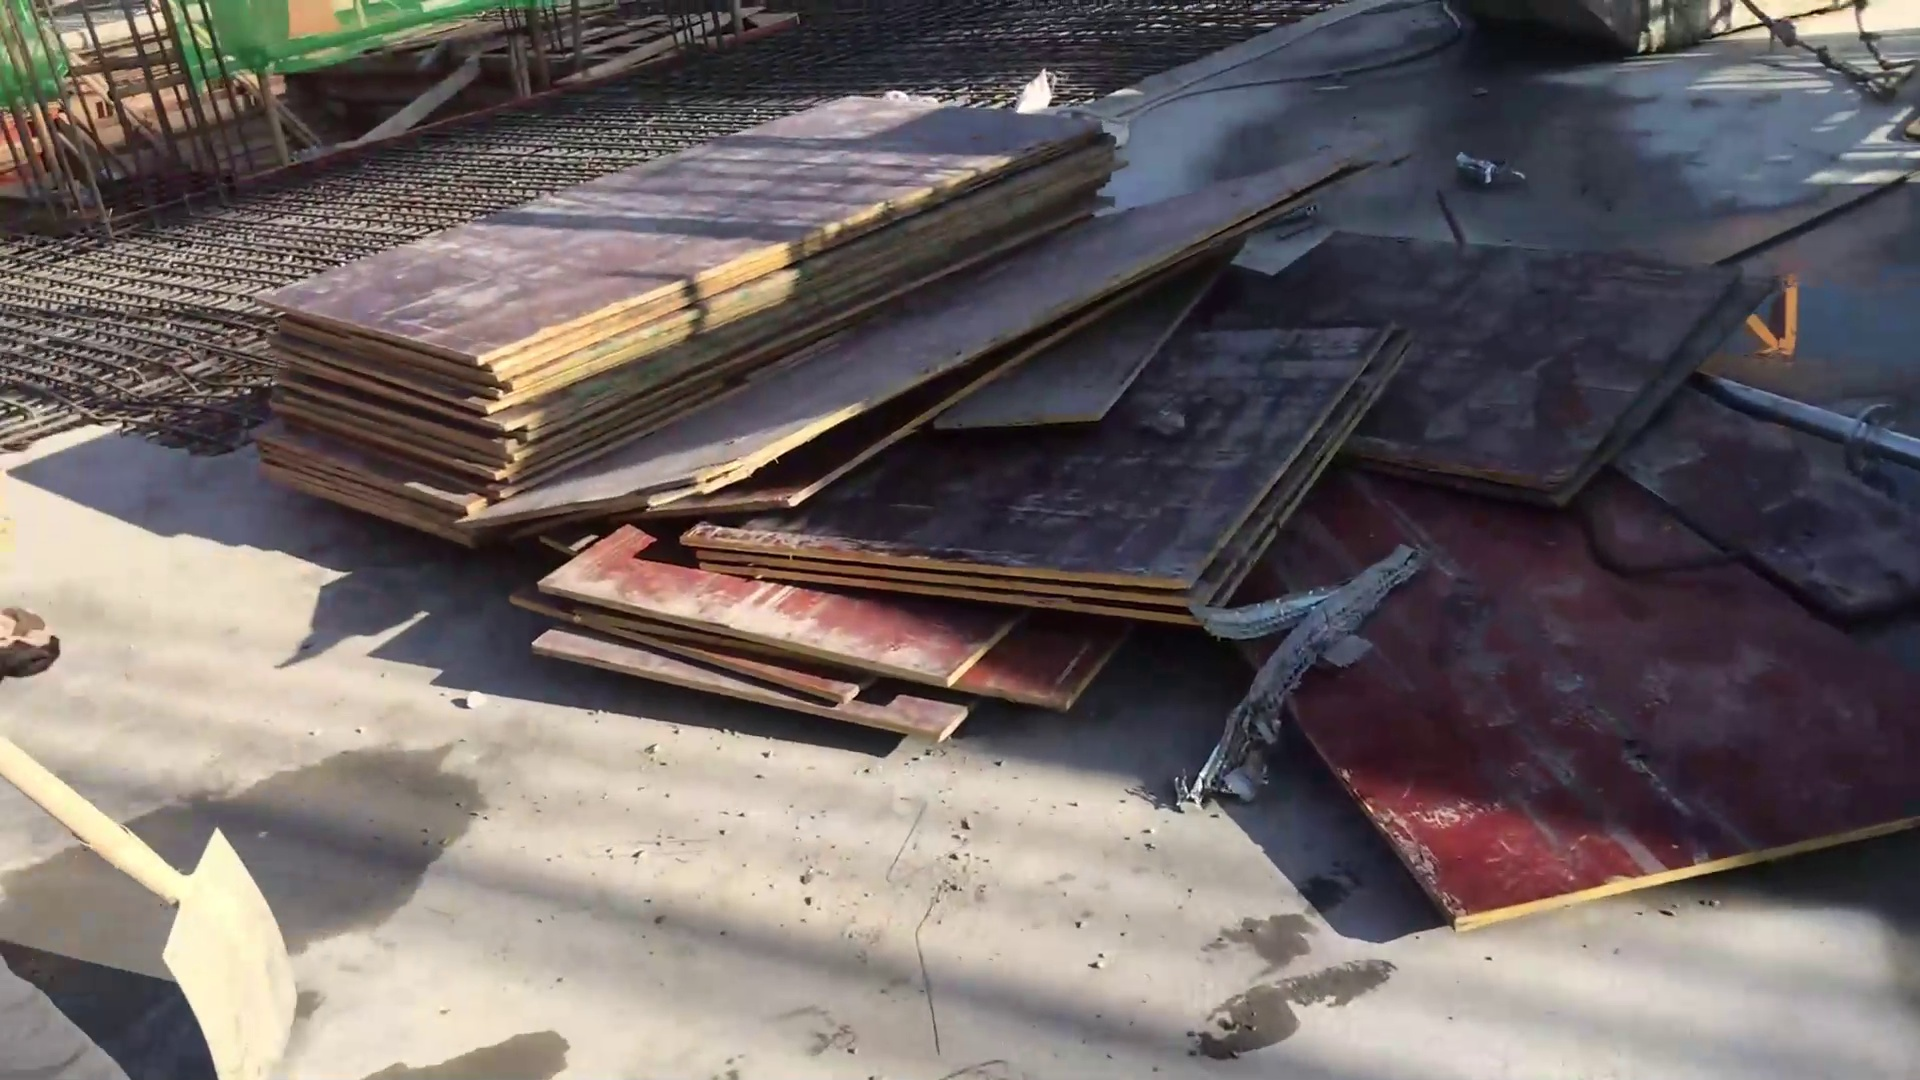board: (268, 76, 1130, 582)
